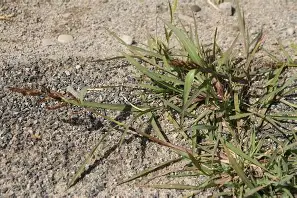weed: (12, 0, 296, 196)
